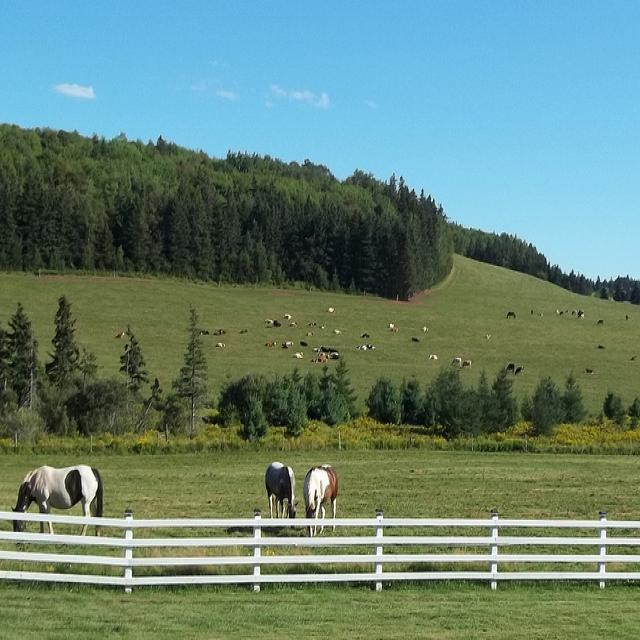cow: (114, 300, 638, 381), (449, 355, 460, 365), (280, 339, 293, 347), (291, 350, 302, 358), (263, 339, 275, 346), (461, 358, 470, 367), (513, 365, 522, 374), (326, 350, 337, 357), (505, 362, 513, 370), (354, 343, 366, 348), (427, 352, 437, 358), (359, 331, 368, 336), (288, 320, 295, 325), (505, 309, 510, 316)
